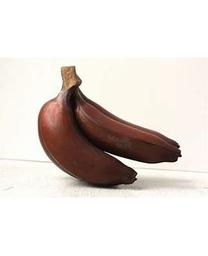banana: (35, 63, 184, 188)
